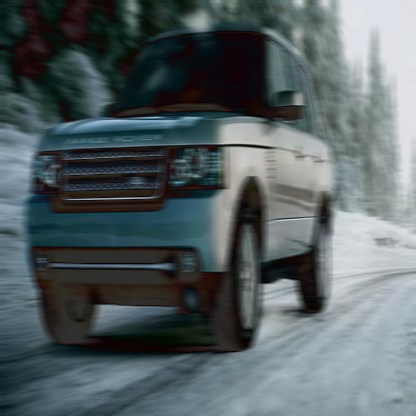Vehicle: (26, 25, 335, 350)
